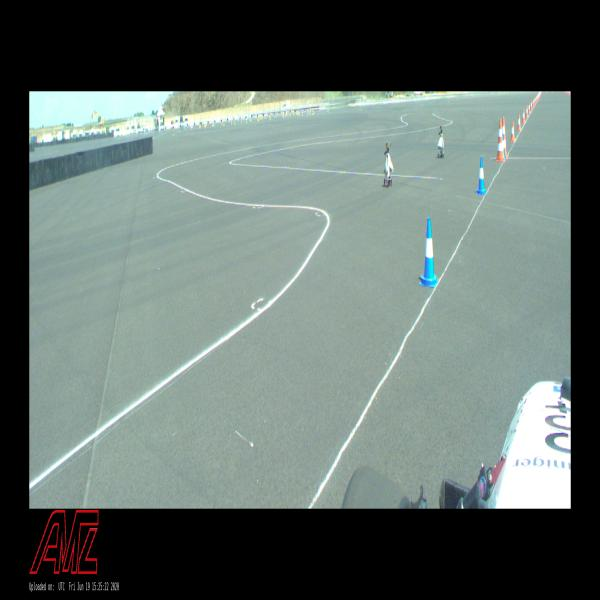blue_cone: (419, 217, 438, 288), (476, 156, 486, 194), (502, 134, 506, 159)
large_orange_cone: (496, 119, 505, 161), (502, 117, 508, 156)
orange_cone: (510, 122, 516, 142), (518, 115, 522, 130), (522, 110, 526, 122), (528, 103, 531, 113), (526, 106, 528, 116), (530, 100, 532, 109), (532, 99, 534, 108), (534, 98, 536, 105)
